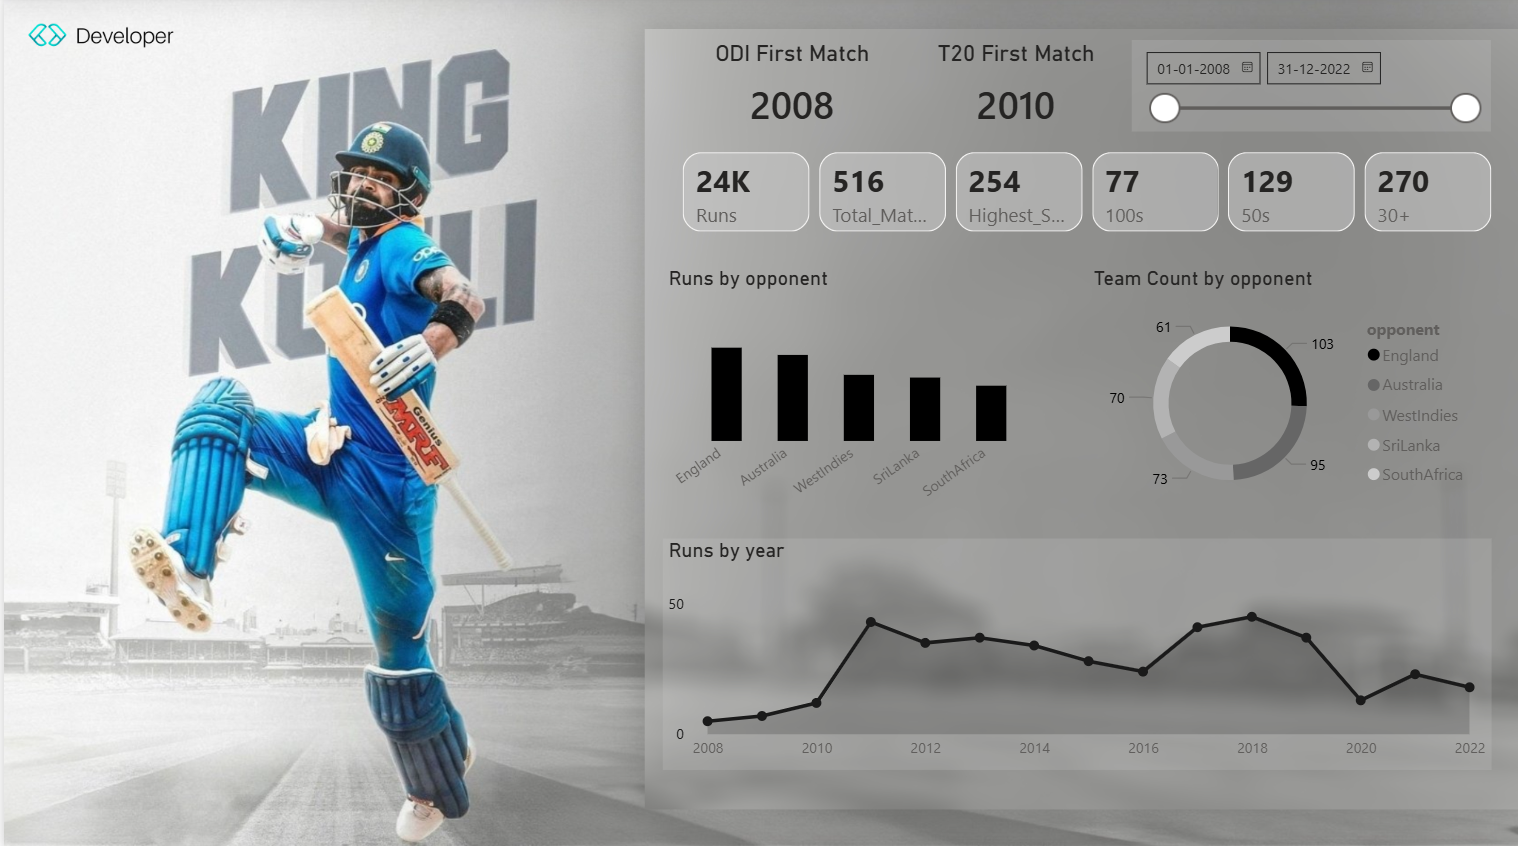

The dashboard page shown, as its layout file describes it:
{"tool":"powerbi","page":{"name":"Page 1","canvas":[1280,720],"ordinal":0},"visuals":[{"type":"cardVisual","fields":{"Data":["Measures_Table.Runs","Measures_Table.Total_Matches","Measures_Table.HighestScore","Measures_Table.100s","Measures_Table.50s","Measures_Table.30+"]},"box":[555.8,115.1,716.3,101.2],"z":0},{"type":"clusteredColumnChart","title":"Runs by opponent","fields":{"Y":["CountNonNull(Virat_Kohli.runs)"],"Category":["Virat_Kohli.opponent"]},"box":[555.8,227.9,319.8,212.8],"z":1000},{"type":"donutChart","title":"Team Count by opponent","fields":{"Category":["Virat_Kohli.opponent"],"Y":["Measures_Table.Total_Matches"]},"box":[914,227.9,331.4,212.8],"z":2000},{"type":"stackedAreaChart","title":"Runs by year","fields":{"Category":["Calender.year"],"Y":["CountNonNull(Virat_Kohli.runs)"]},"box":[555.8,458.1,698.8,195.3],"z":3000},{"type":"slicer","fields":{"Values":["Calender.Date"]},"box":[951.2,37.2,303.5,77.9],"z":3001},{"type":"cardVisual","title":"T20 First Match","fields":{"Data":["Measures_Table.T20_First_Match"]},"box":[765.1,37.2,176.7,84.9],"z":3002},{"type":"cardVisual","title":"ODI First Match","fields":{"Data":["Measures_Table.ODI_First_Match"]},"box":[576.7,37.2,176.7,84.9],"z":3003}]}

Visuals, with their boxes in screenshot pixels (x1, y1, x2, y2), scaled from the page's 1280x720 canvas onto the 1518x846 screenshot:
cardVisual - Measures_Table.Runs x Measures_Table.Total_Matches: l=659, t=135, r=1509, b=254
"Runs by opponent" clusteredColumnChart: l=659, t=268, r=1038, b=518
"Team Count by opponent" donutChart: l=1084, t=268, r=1477, b=518
"Runs by year" stackedAreaChart: l=659, t=538, r=1488, b=768
slicer - Calender.Date: l=1128, t=44, r=1488, b=135
"T20 First Match" cardVisual: l=907, t=44, r=1117, b=143
"ODI First Match" cardVisual: l=684, t=44, r=893, b=143
